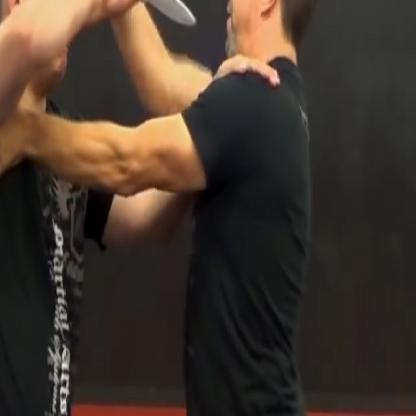knife: (98, 0, 204, 40)
